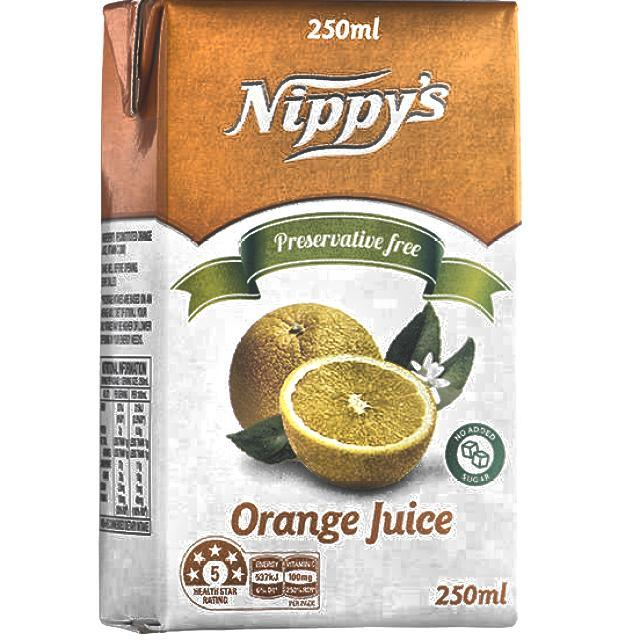cardboard: (97, 0, 522, 633)
